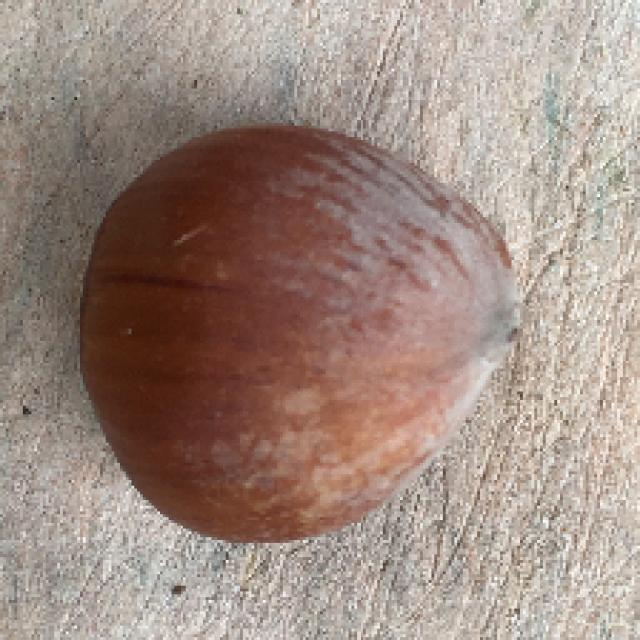qualityHazelnut: (72, 124, 518, 543)
